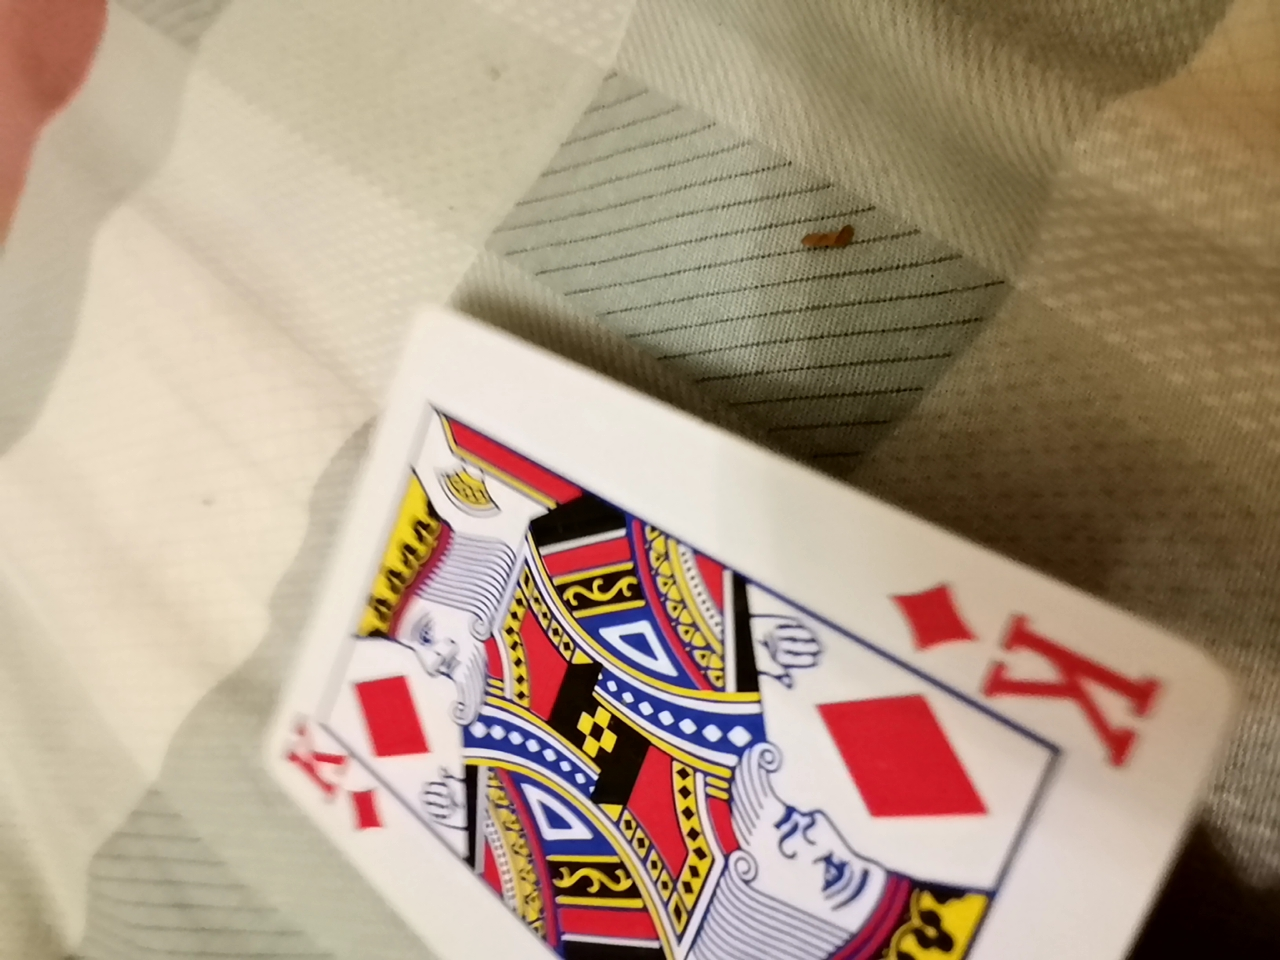fk k: (220, 287, 1209, 952)
